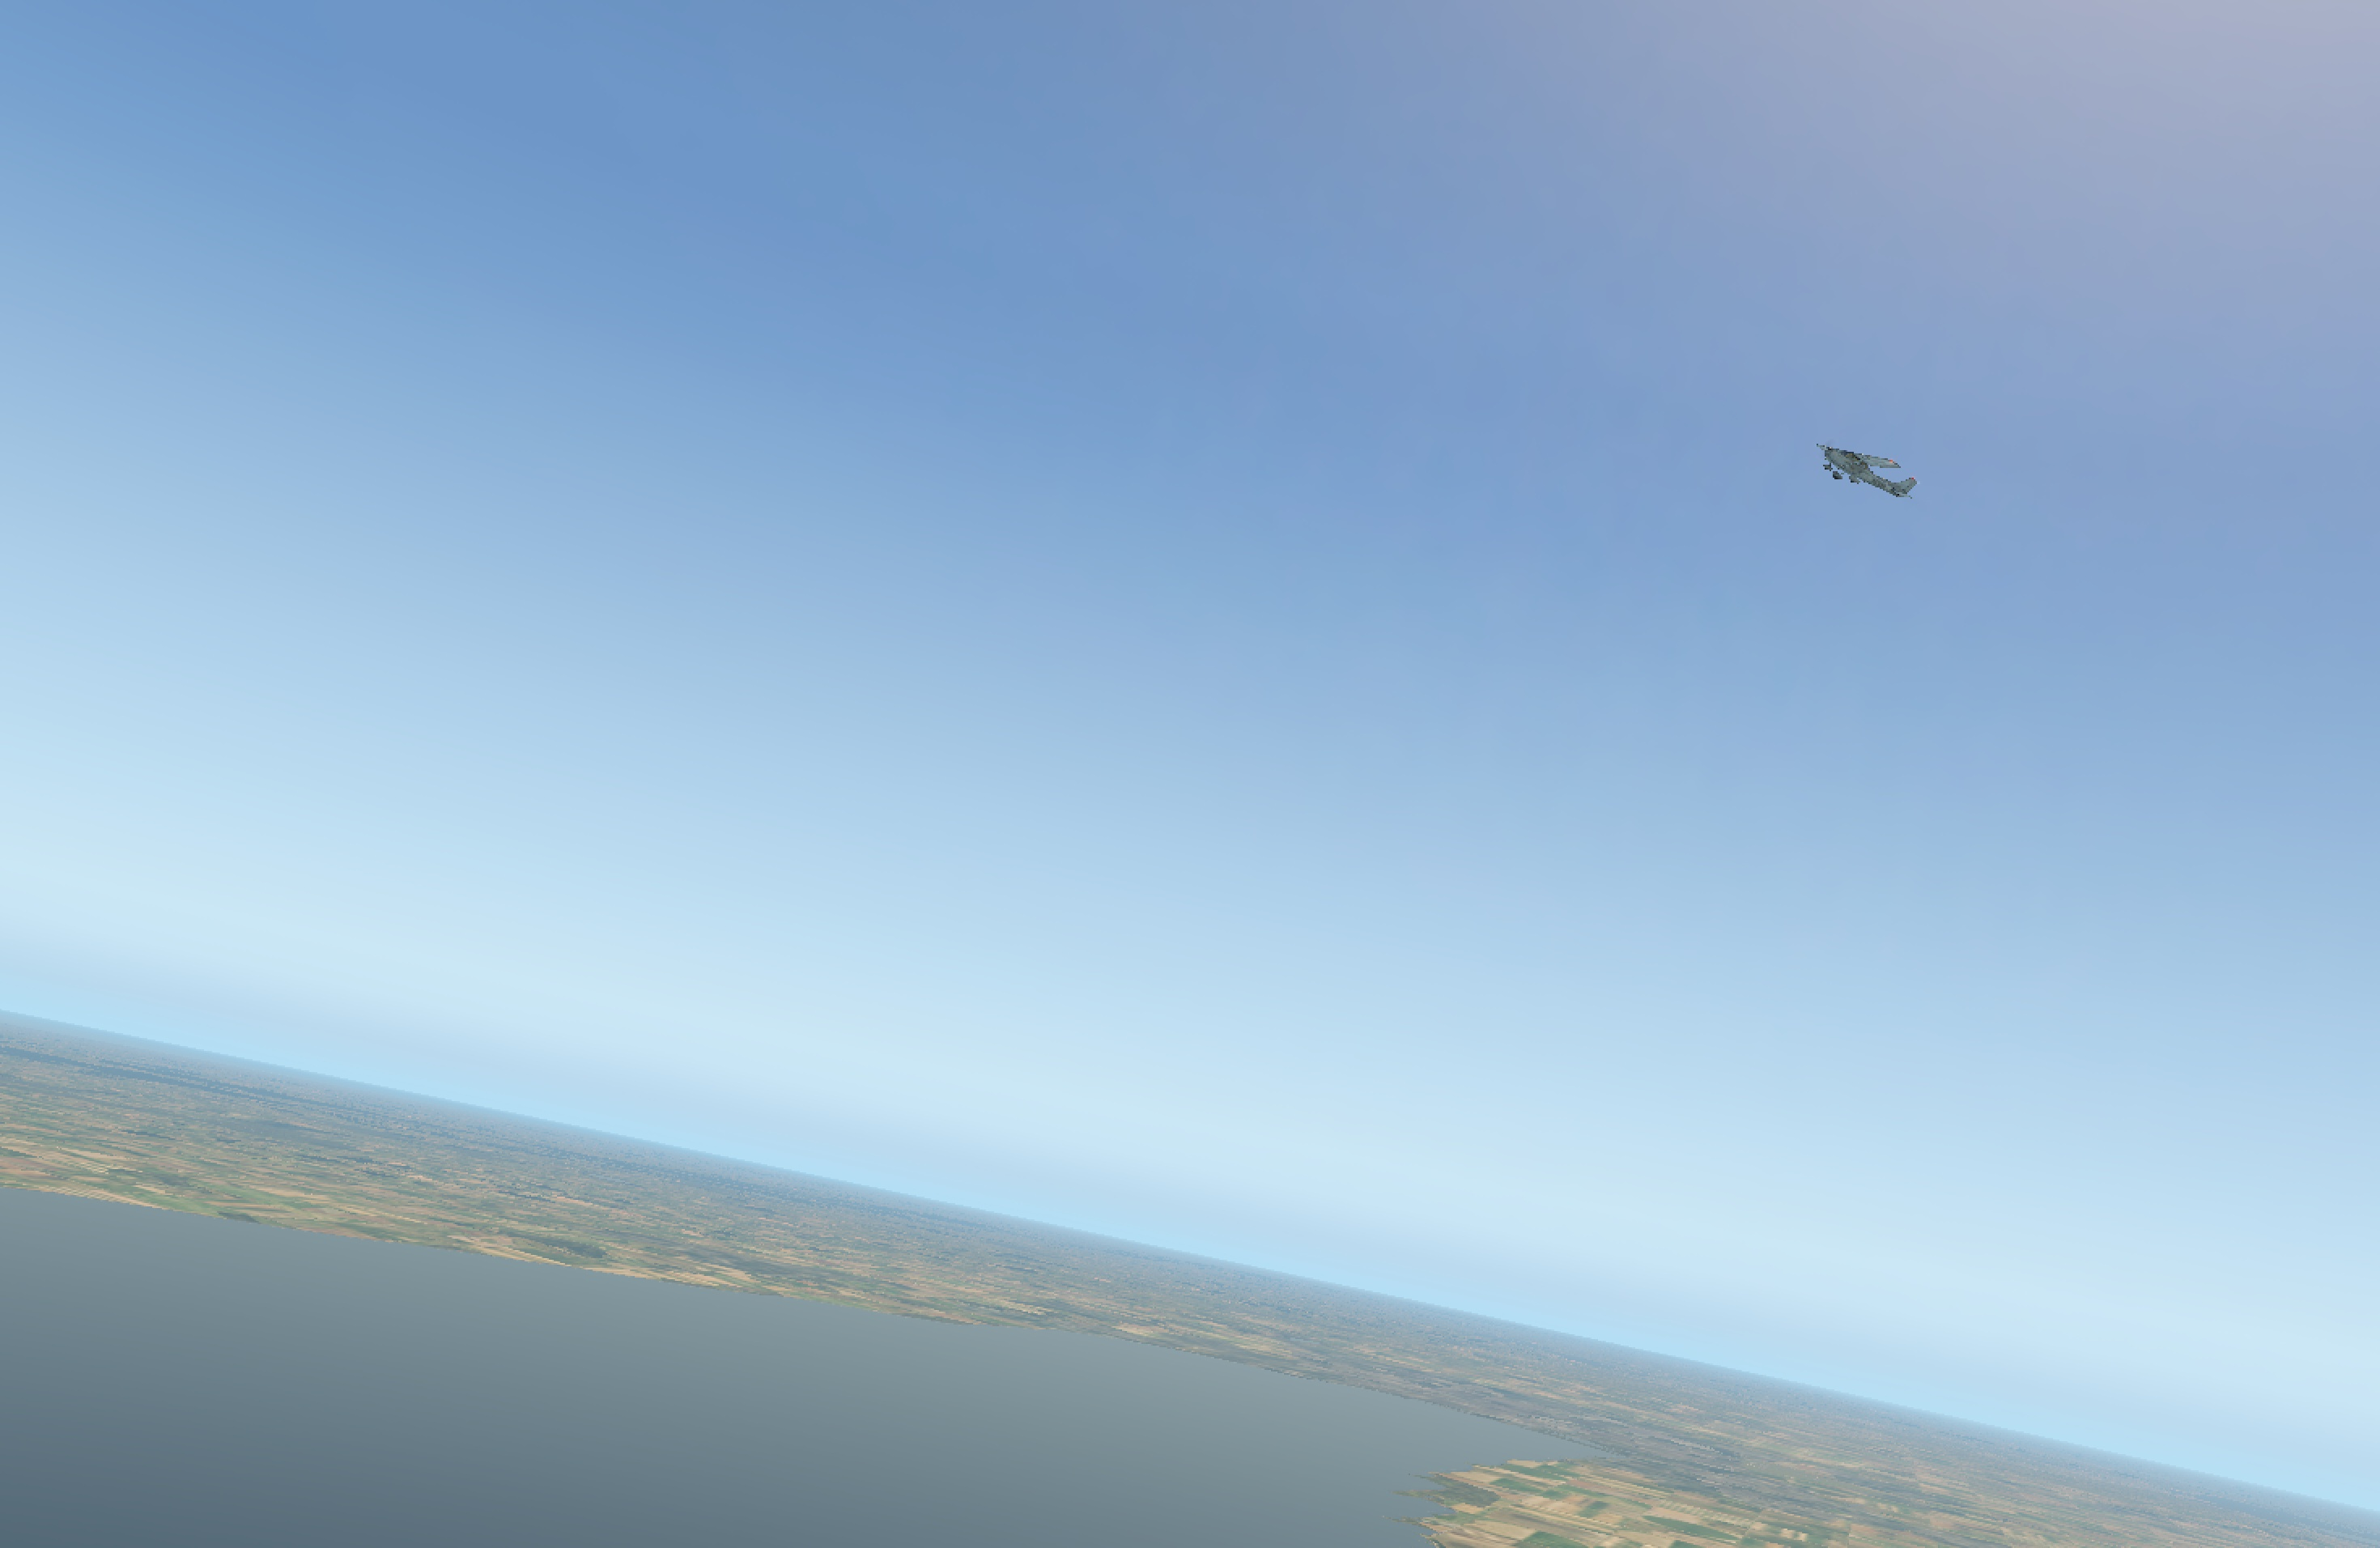aircraft: (1799, 443, 1899, 481)
